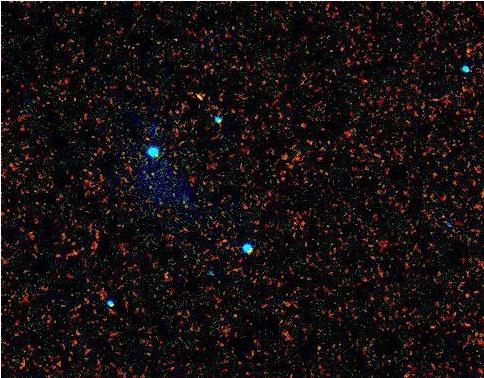star: (184, 80, 214, 110)
